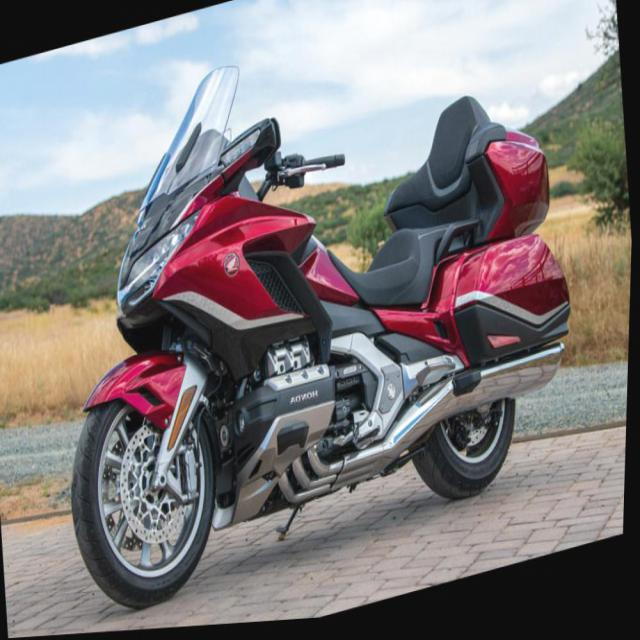Gold Wing: (30, 0, 600, 634)
